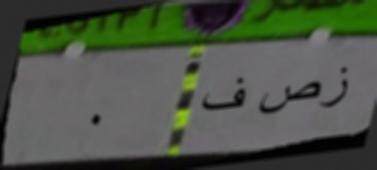0: (82, 110, 104, 134)
faa: (198, 74, 246, 119)
saad: (258, 77, 322, 118)
zay: (322, 61, 350, 118)
